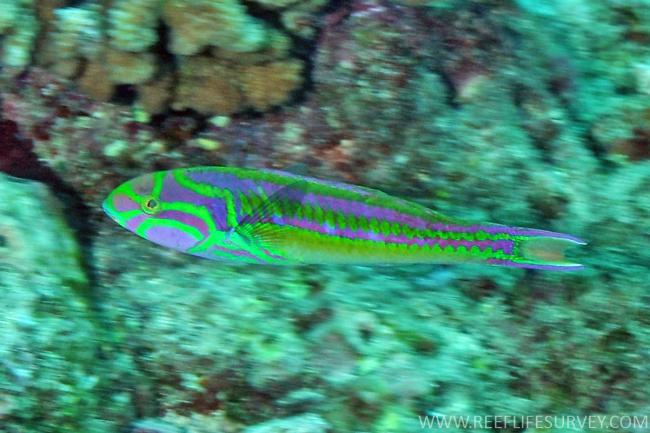fish: (102, 165, 592, 272)
